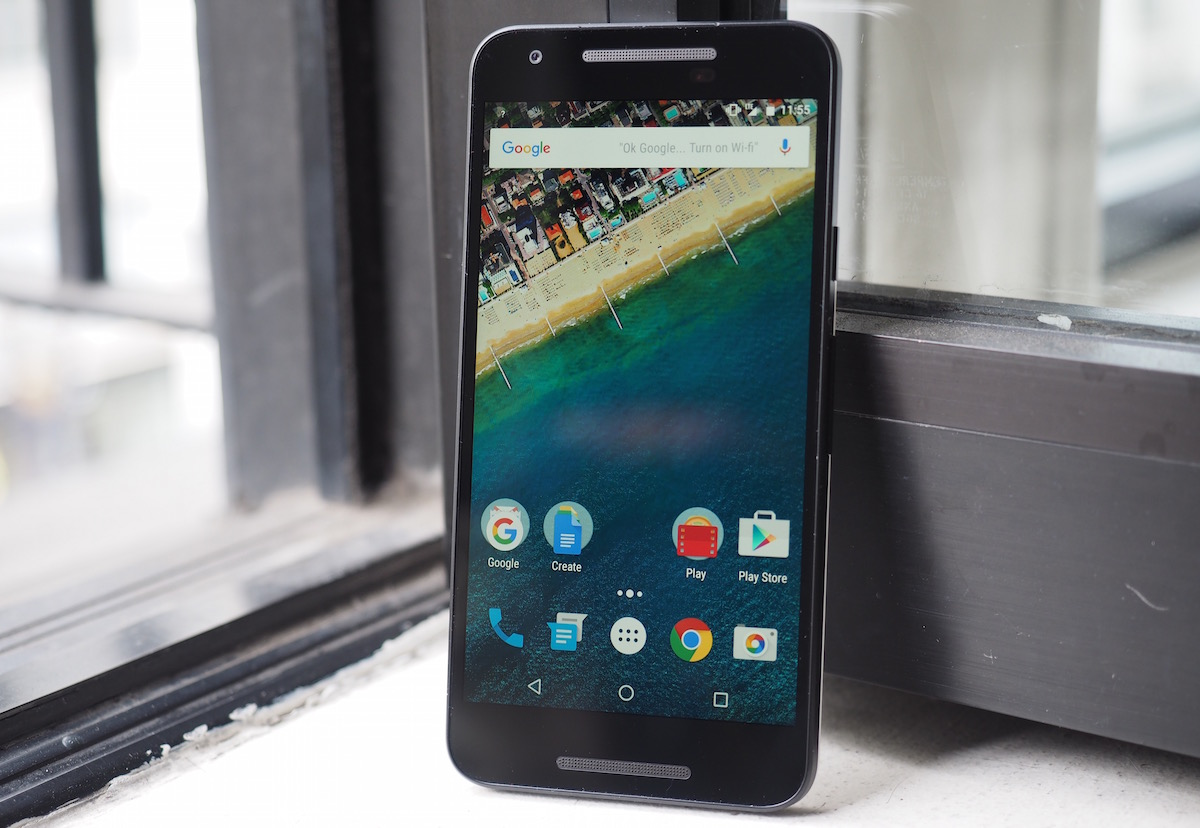smartphone: (444, 20, 843, 814)
